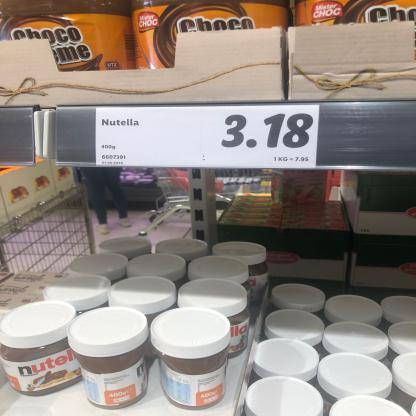prtg: (97, 105, 320, 170)
